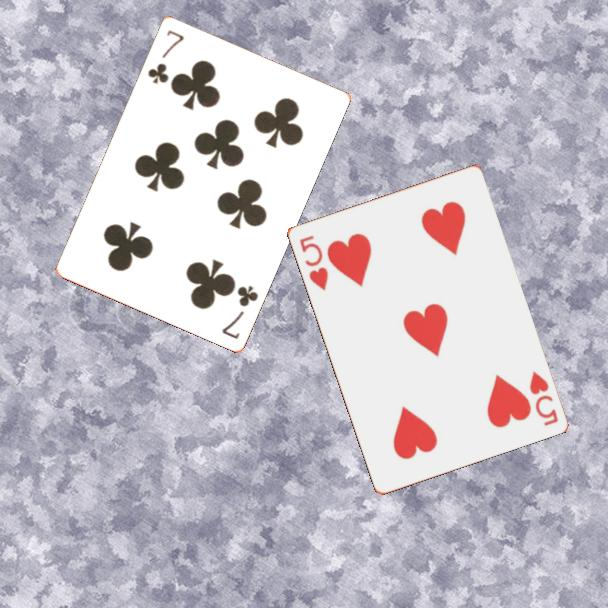c07: (218, 281, 261, 342), (144, 26, 187, 86)
h05: (525, 367, 561, 429), (296, 232, 331, 293)
